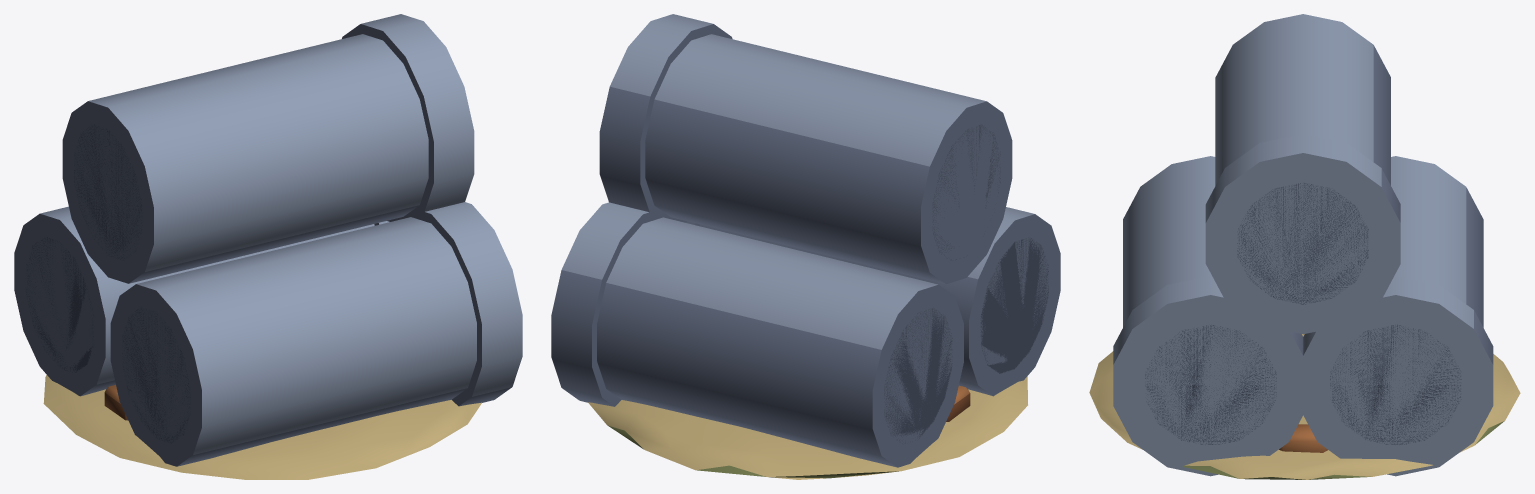
File: PipeStack.fbx
3 renders of one model, left to right at view 1: azimuth 30°, elevation 25°; view 2: azimuth 150°, elevation 25°; view 3: azimuth 270°, elevation 25°, orthographic. The views are drawn at different scales.
Visible parts, largest first — view 1: PipeStack; view 2: PipeStack; view 3: PipeStack.
Part boxes in pixels (<box>): PipeStack: <box>14,14,522,479</box>; PipeStack: <box>551,14,1060,479</box>; PipeStack: <box>1089,14,1520,479</box>.
Bounding box in the file's own units: 1.69 × 1.43 × 1.72.
1 material, 1 textured.
